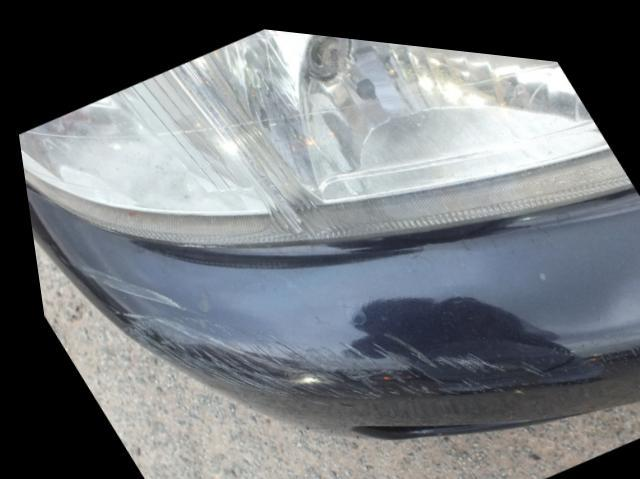scratch: (63, 257, 592, 398)
